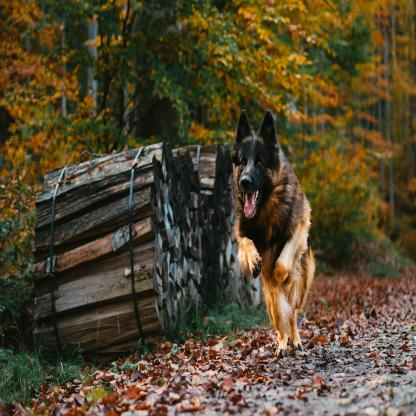german shepherd: (232, 115, 315, 360)
